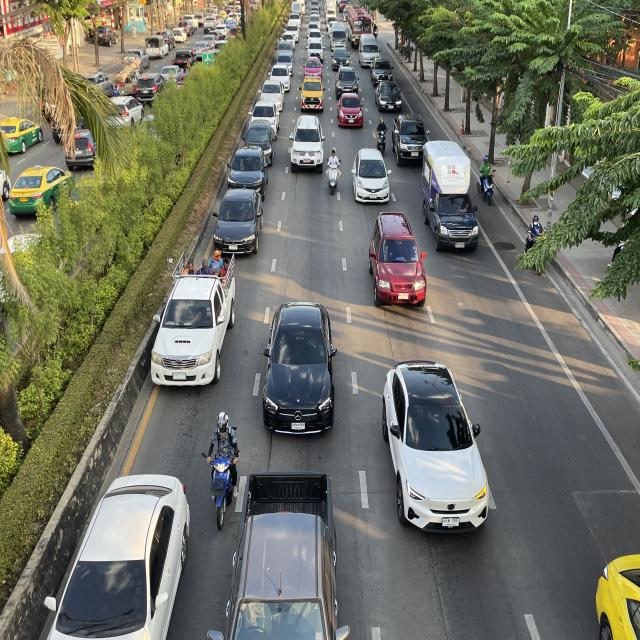bike: (202, 409, 240, 532), (523, 214, 545, 278), (477, 154, 496, 206), (325, 149, 342, 196), (374, 116, 388, 156)
car: (42, 469, 192, 640), (208, 467, 349, 640), (380, 360, 491, 537), (261, 300, 338, 437), (211, 188, 264, 256), (226, 146, 269, 202), (351, 147, 392, 204), (392, 112, 430, 168), (242, 119, 276, 166), (248, 102, 280, 140), (336, 92, 364, 130)
truck: (149, 249, 237, 388), (422, 140, 481, 254), (298, 76, 326, 113)
